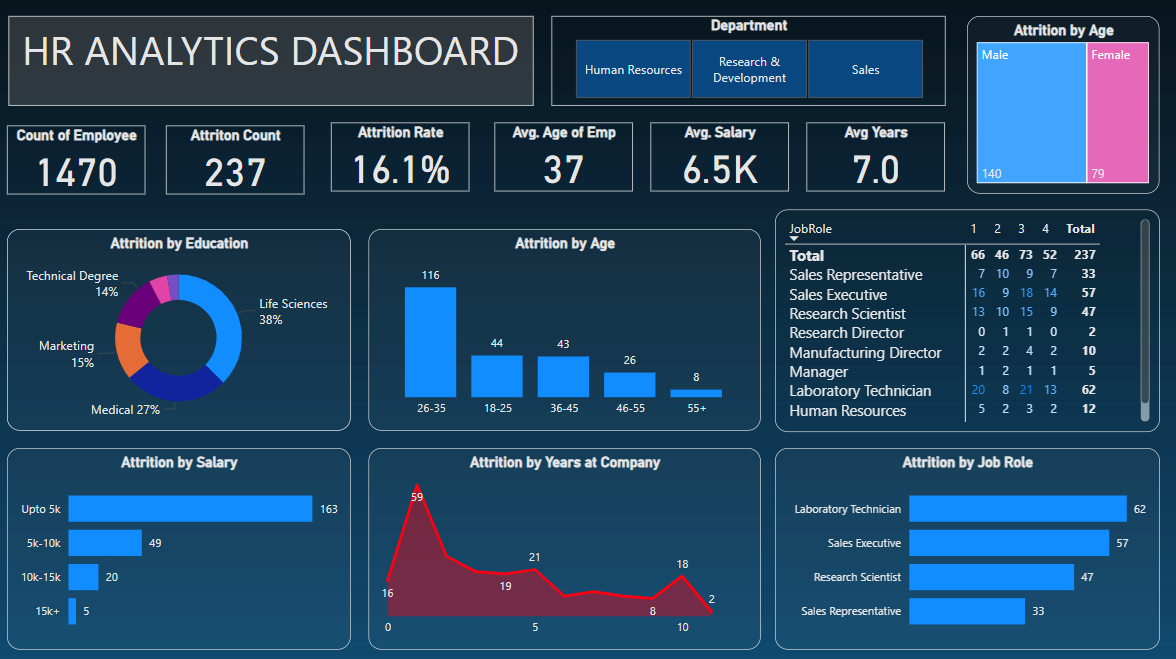

Layout of this report page (visuals, bound fields, positions):
{"tool":"powerbi","page":{"name":"Page 1","canvas":[1280,720],"ordinal":0},"visuals":[{"type":"card","title":"Count of Employee","fields":{"Values":["CountNonNull(HR_Analytics.EmpID)"]},"box":[10.1,137.7,149.9,74.9],"z":0},{"type":"card","title":"Attriton Count","fields":{"Values":["Sum(HR_Analytics.Attrition count)"]},"box":[182.3,137.7,149.9,74.9],"z":1000},{"type":"card","title":"Attrition Rate","fields":{"Values":["HR_Analytics.Attrition rate"]},"box":[360.5,135.7,149.9,74.9],"z":2000},{"type":"card","title":"Avg. Age of Emp","fields":{"Values":["Avg(HR_Analytics.Age)"]},"box":[538.7,135.7,149.9,74.9],"z":3000},{"type":"card","title":"Avg. Salary","fields":{"Values":["Avg(HR_Analytics.MonthlyIncome)"]},"box":[706.8,135.7,149.9,74.9],"z":4000},{"type":"card","title":"Avg Years","fields":{"Values":["Avg(HR_Analytics.YearsAtCompany)"]},"box":[877,135.7,149.9,74.9],"z":5000},{"type":"donutChart","title":"Attrition by Education","fields":{"Category":["HR_Analytics.EducationField"],"Y":["Sum(HR_Analytics.Attrition count)"]},"box":[10.1,251.1,372.7,218.7],"z":6000},{"type":"columnChart","title":"Attrition by Age","fields":{"Y":["Sum(HR_Analytics.Attrition count)"],"Category":["HR_Analytics.AgeGroup"]},"box":[401,251.1,425.3,218.7],"z":7000},{"type":"pivotTable","title":"Attrition by Age","fields":{"Rows":["HR_Analytics.JobRole"],"Columns":["HR_Analytics.JobSatisfaction"],"Values":["Sum(HR_Analytics.Attrition count)"]},"box":[842.5,228.9,417.2,241],"z":7001},{"type":"clusteredBarChart","title":"Attrition by Salary","fields":{"Category":["HR_Analytics.SalarySlab"],"Y":["Sum(HR_Analytics.Attrition count)"]},"box":[10.1,488.1,372.7,218.7],"z":7002},{"type":"clusteredBarChart","title":"Attrition by Job Role","fields":{"Category":["HR_Analytics.JobRole"],"Y":["Sum(HR_Analytics.Attrition count)"]},"box":[842.5,488.1,417.2,218.7],"z":7003},{"type":"areaChart","title":"Attrition by Years at Company ","fields":{"Category":["HR_Analytics.YearsAtCompany"],"Y":["Sum(HR_Analytics.Attrition count)"]},"box":[401,488.1,425.3,218.7],"z":7004},{"type":"treemap","title":"Attrition by Age","fields":{"Group":["HR_Analytics.Gender"],"Values":["Sum(HR_Analytics.Attrition count)"]},"box":[1051.1,20.3,208.6,192.4],"z":7005},{"type":"slicer","title":"Department","fields":{"Values":["HR_Analytics.Department"]},"box":[599.5,20.3,427.3,97.2],"z":7006},{"type":"textbox","box":[12.2,20.3,569.1,97.2],"z":7007}]}

Visuals, with their boxes in screenshot pixels (x1, y1, x2, y2), scaled from the page's 1280x720 canvas onto the 1176x659 screenshot:
"Count of Employee" card: <bbox>9, 126, 147, 195</bbox>
"Attriton Count" card: <bbox>167, 126, 305, 195</bbox>
"Attrition Rate" card: <bbox>331, 124, 469, 193</bbox>
"Avg. Age of Emp" card: <bbox>495, 124, 633, 193</bbox>
"Avg. Salary" card: <bbox>649, 124, 787, 193</bbox>
"Avg Years" card: <bbox>806, 124, 943, 193</bbox>
"Attrition by Education" donutChart: <bbox>9, 230, 352, 430</bbox>
"Attrition by Age" columnChart: <bbox>368, 230, 759, 430</bbox>
"Attrition by Age" pivotTable: <bbox>774, 210, 1157, 430</bbox>
"Attrition by Salary" clusteredBarChart: <bbox>9, 447, 352, 647</bbox>
"Attrition by Job Role" clusteredBarChart: <bbox>774, 447, 1157, 647</bbox>
"Attrition by Years at Company " areaChart: <bbox>368, 447, 759, 647</bbox>
"Attrition by Age" treemap: <bbox>966, 19, 1157, 195</bbox>
"Department" slicer: <bbox>551, 19, 943, 108</bbox>
textbox: <bbox>11, 19, 534, 108</bbox>
